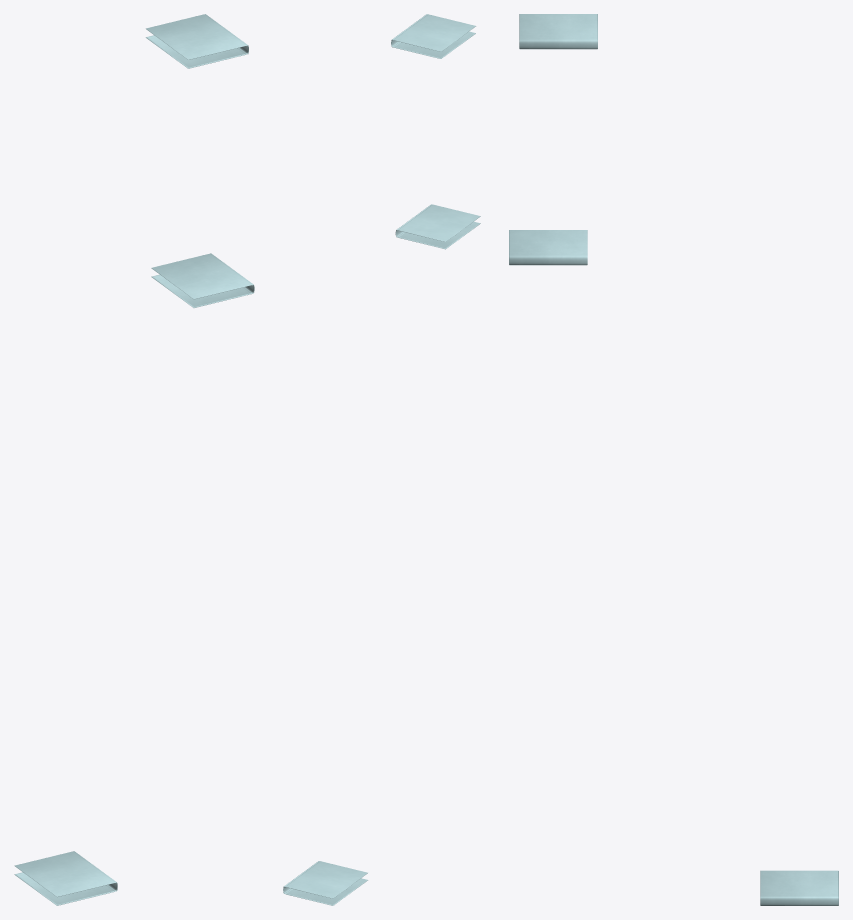
The model's file is bookshelf_2.obj.
3 renders of one model, left to right at view 1: azimuth 30°, elevation 25°; view 2: azimuth 150°, elevation 25°; view 3: azimuth 270°, elevation 25°, orthographic. The views are drawn at different scales.
Size of the model in its own units: 0.2662 by 3.94 by 1.36.
